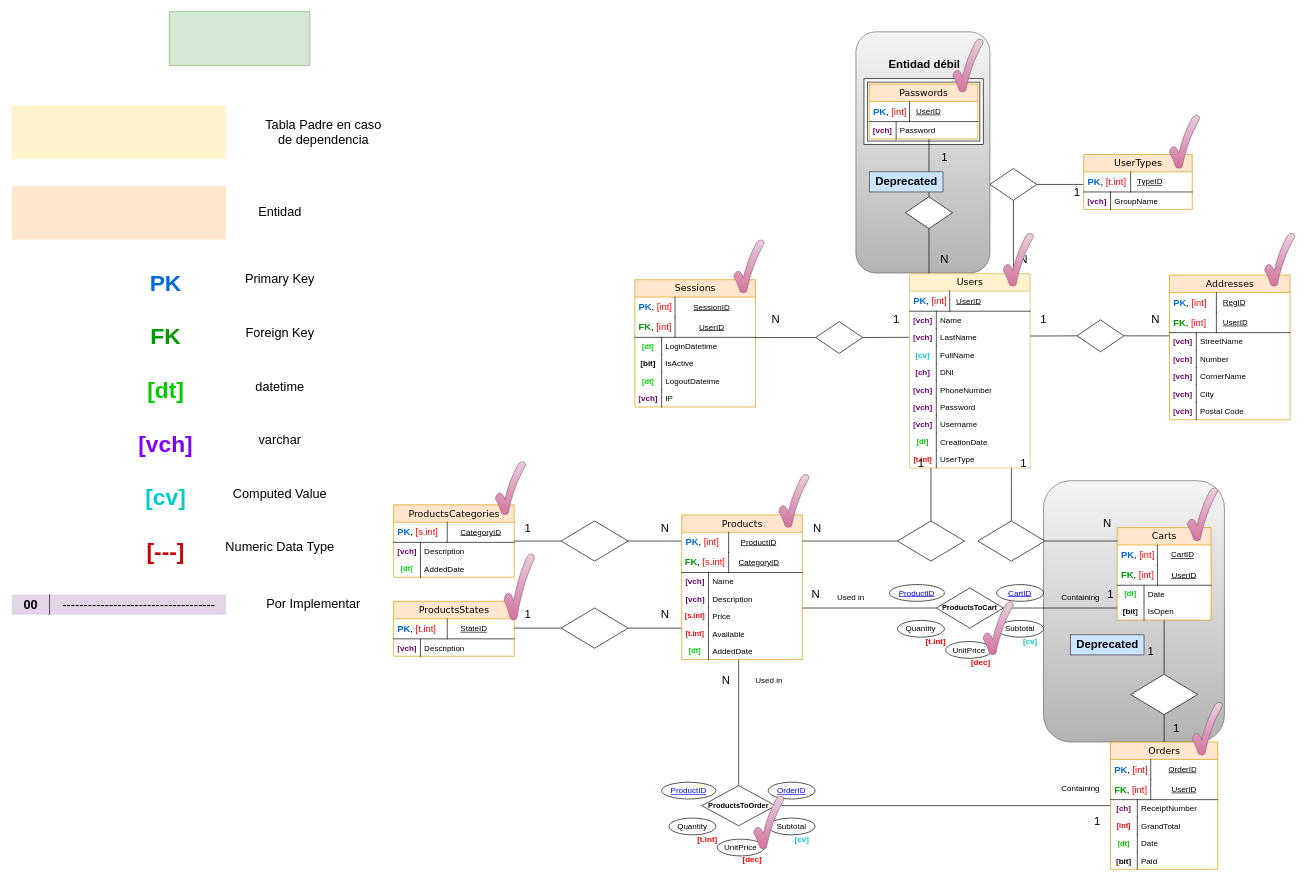
Some shapes in this 1307 by 883 pixel diagram are drawn without their labels. Each missing label, with the centre of its shape:
Can be sent as: the point at 1164,694
Customers Manage: the point at 1011,540
Grouped In: the point at 594,540
Has: the point at 1013,184
In: the point at 594,627
LEYENDA: the point at 239,38
Logs: the point at 839,337
Registers: the point at 1100,335
Staff Manage: the point at 930,540
Stores: the point at 928,212
